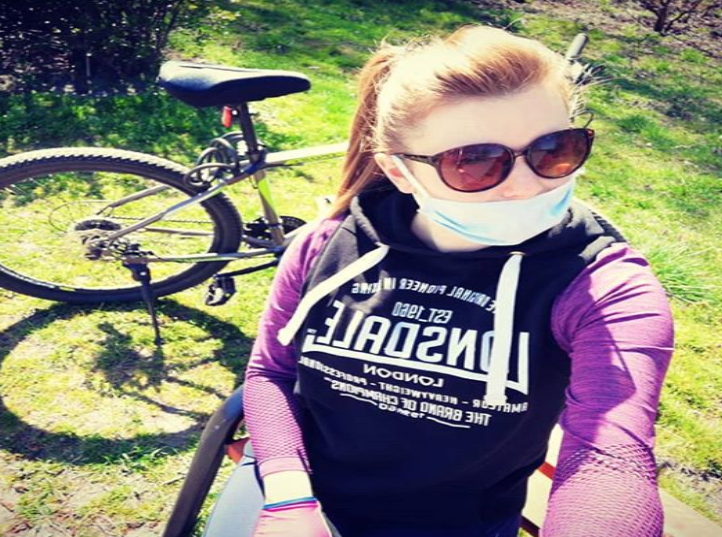mask_weared_incorrect: (362, 30, 600, 249)
